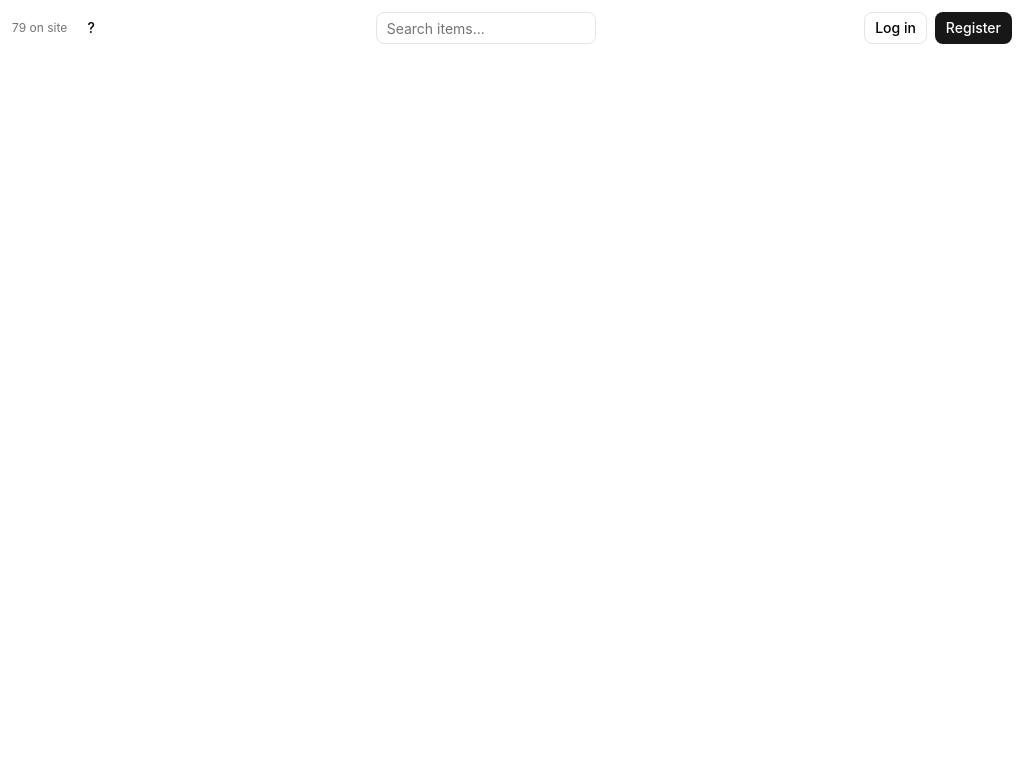
Test case: TopBar › registering with a username logs in and shows the username
This screenshot has width=1024, height=768.
Click the button "Register" at point(973, 28), box [935,12,1012,44]
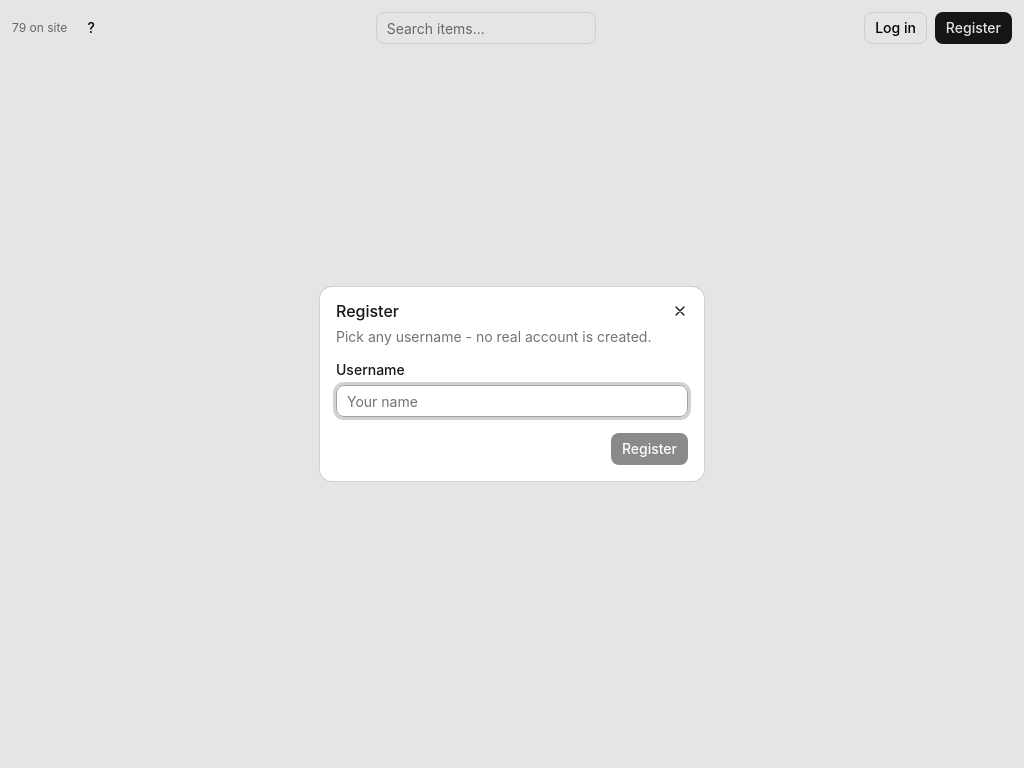
Type "Alice" into the field labelled "Username" at point(512, 401), box [336,385,688,417]
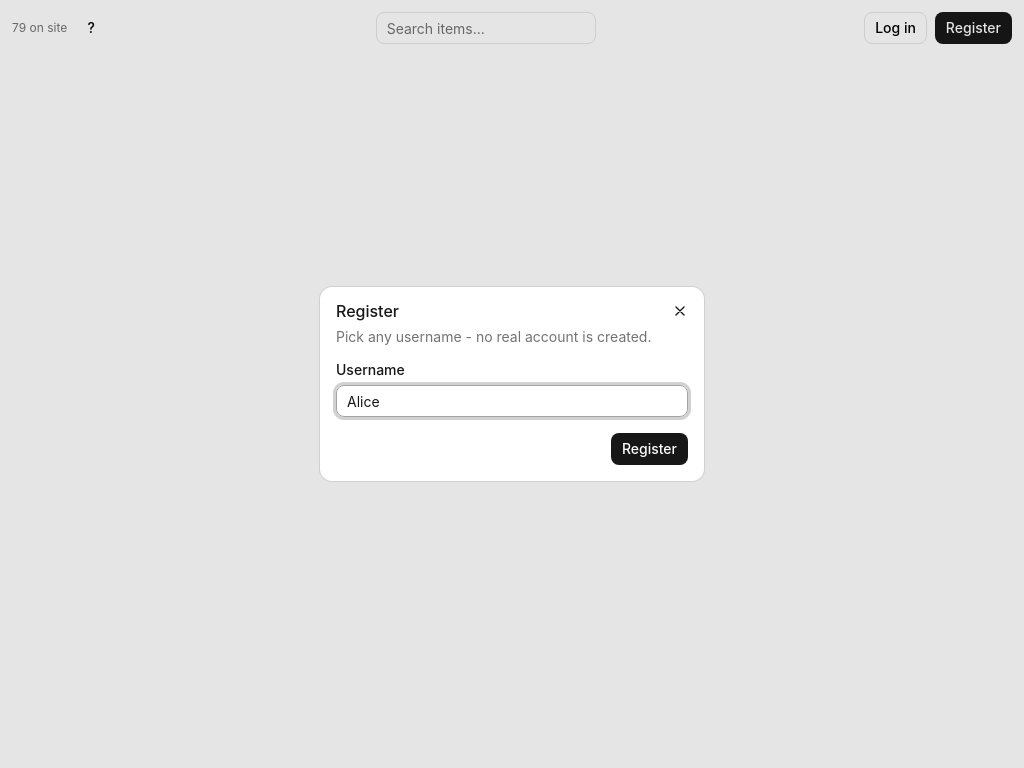
Click the button "Register" at point(649, 449), box [611,433,688,465]
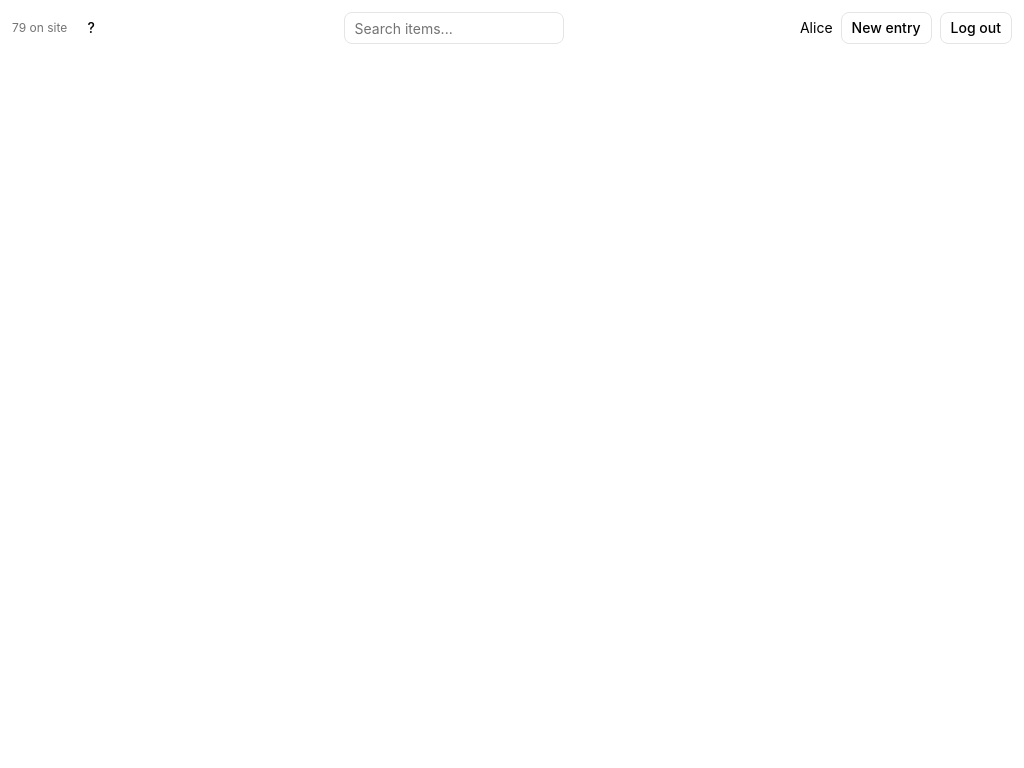
Check: the text with test id "username" reads "Alice", box [800,19,832,36]
Check: the button "Log in" is gone
